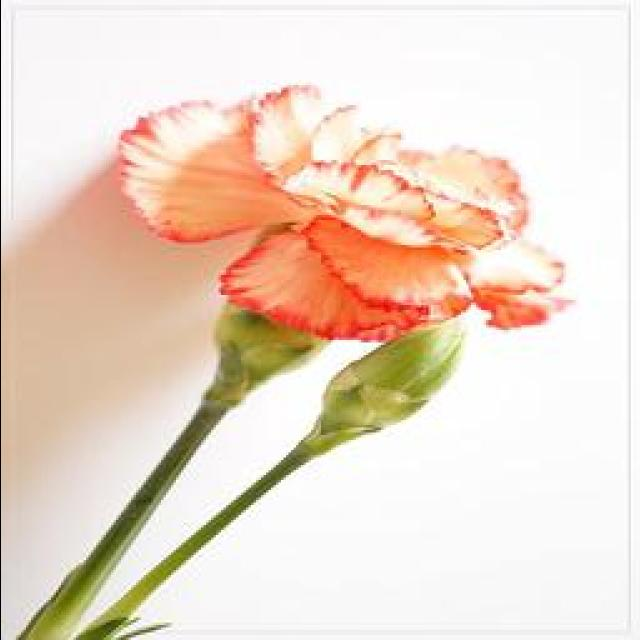carnation: (105, 52, 567, 391)
